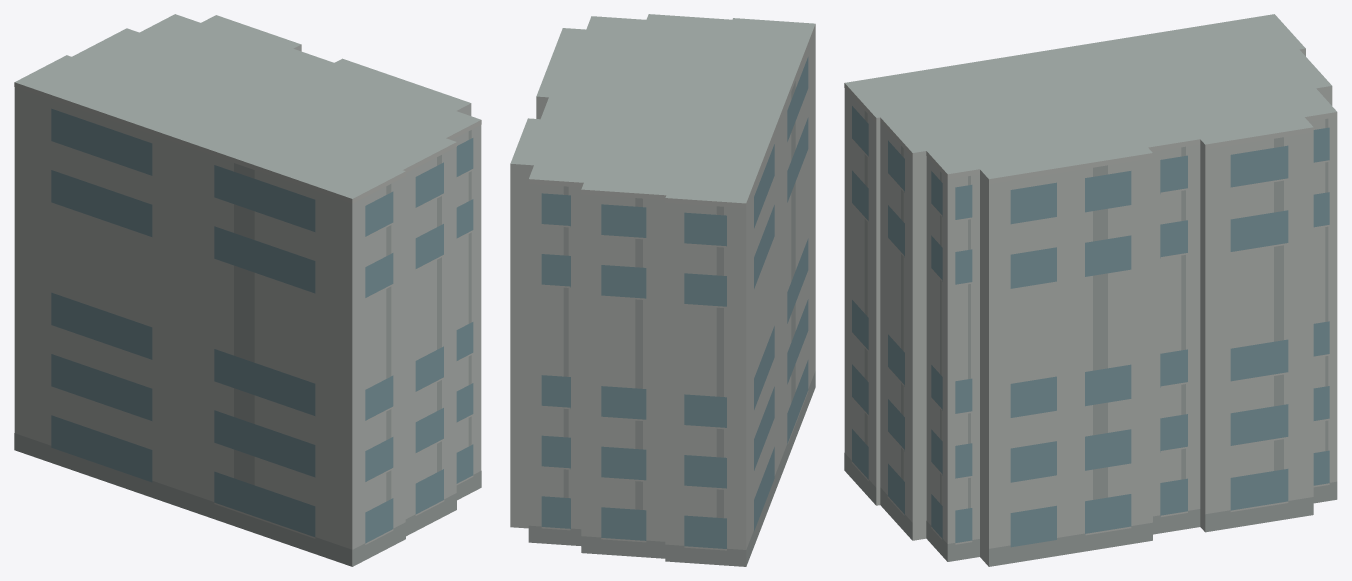
File: survey-upis-32827593.glb
3 renders of one model, left to right at view 1: azimuth 30°, elevation 25°; view 2: azimuth 150°, elevation 25°; view 3: azimuth 270°, elevation 25°, orthographic. The views are drawn at different scales.
Visible parts, largest first — view 1: survey-upis-32827593.tmp; view 2: survey-upis-32827593.tmp; view 3: survey-upis-32827593.tmp.
Part boxes in pixels (bbox=[...]): survey-upis-32827593.tmp: bbox=[14, 14, 481, 566]; survey-upis-32827593.tmp: bbox=[510, 14, 815, 566]; survey-upis-32827593.tmp: bbox=[844, 14, 1337, 566].
Bounding box in the file's own units: 16.73 × 18.3 × 21.09.
